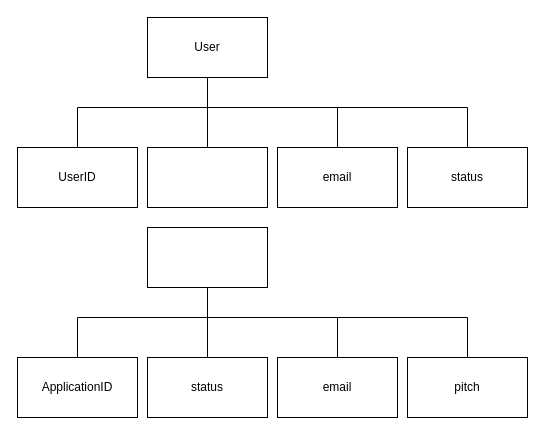
This 545x435 diagram has some shape labels left out. Each missing label, with the centre of its shape:
"Application" belongs at pixel 207 257.
"level" belongs at pixel 207 177.
